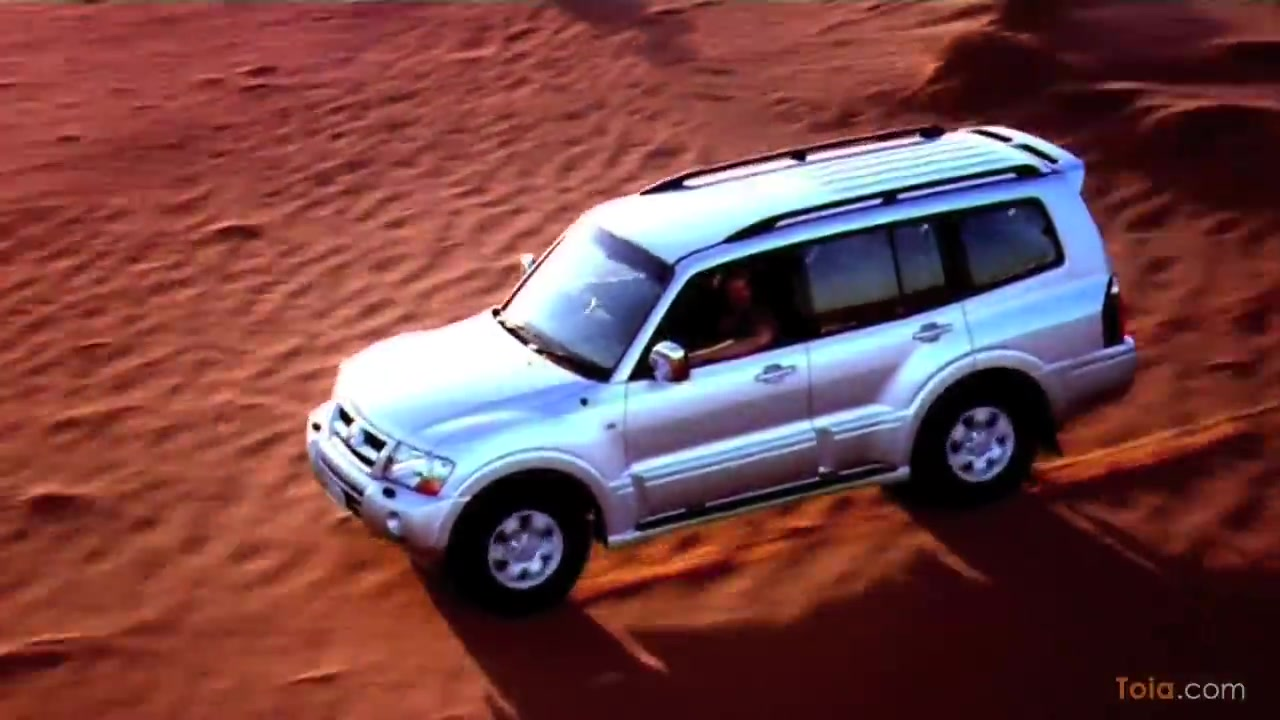car: (306, 112, 1153, 615)
